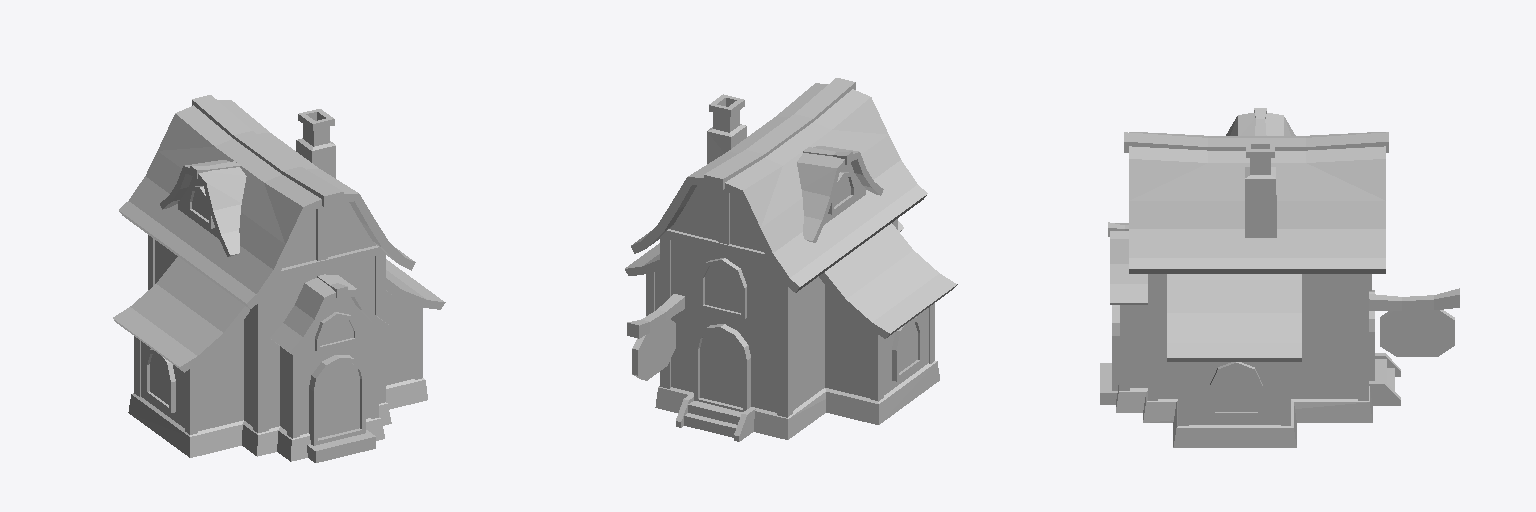
The picture shows the model from 3 angles: view 1: azimuth 30°, elevation 25°; view 2: azimuth 150°, elevation 25°; view 3: azimuth 270°, elevation 25°; orthographic projection.
Parts seen in each view (by area): view 1: Tavern w_Tavern w_0; view 2: Tavern w_Tavern w_0; view 3: Tavern w_Tavern w_0.
Part boxes in pixels (x1,y1,x2,y2): Tavern w_Tavern w_0: (113,95,445,462); Tavern w_Tavern w_0: (625,78,957,441); Tavern w_Tavern w_0: (1100,108,1459,447).
Bounding box in the file's own units: 9.22 × 8.9 × 10.79.